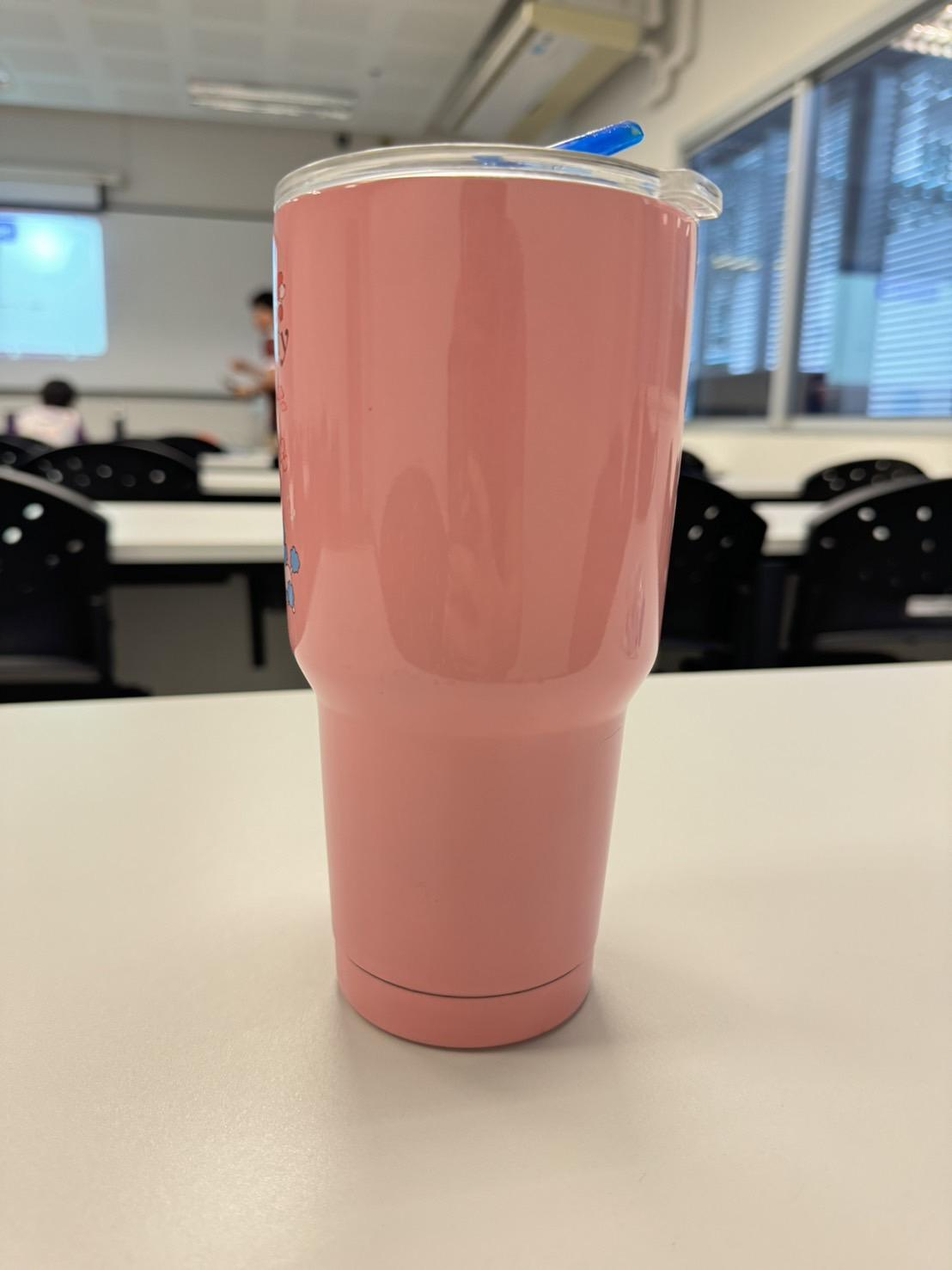cup: (273, 144, 720, 1047)
